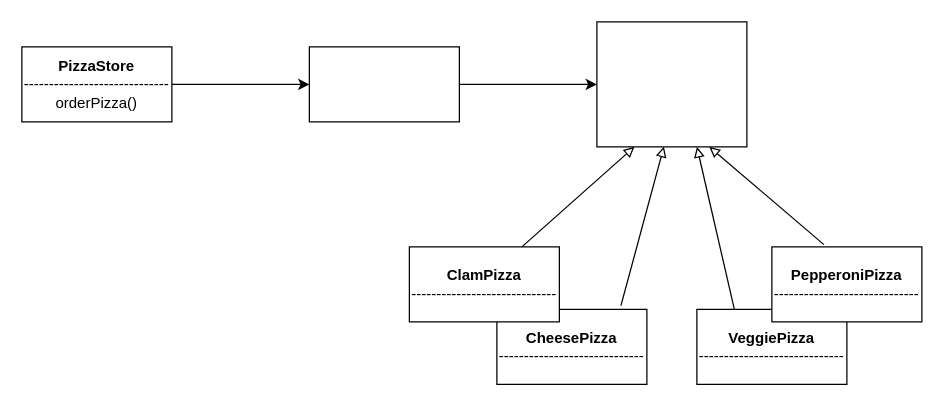
Some shapes in this 944 by 406 pixel diagram are drawn without their labels. Here are the shapes that lost their labels. From the top down, the centre of each, then its label:
point 383,84: SimplePizzaFactory ----------------------------- createPizza()
point 671,84: Pizza ---------------------------- prepare() bake() cut() box()
